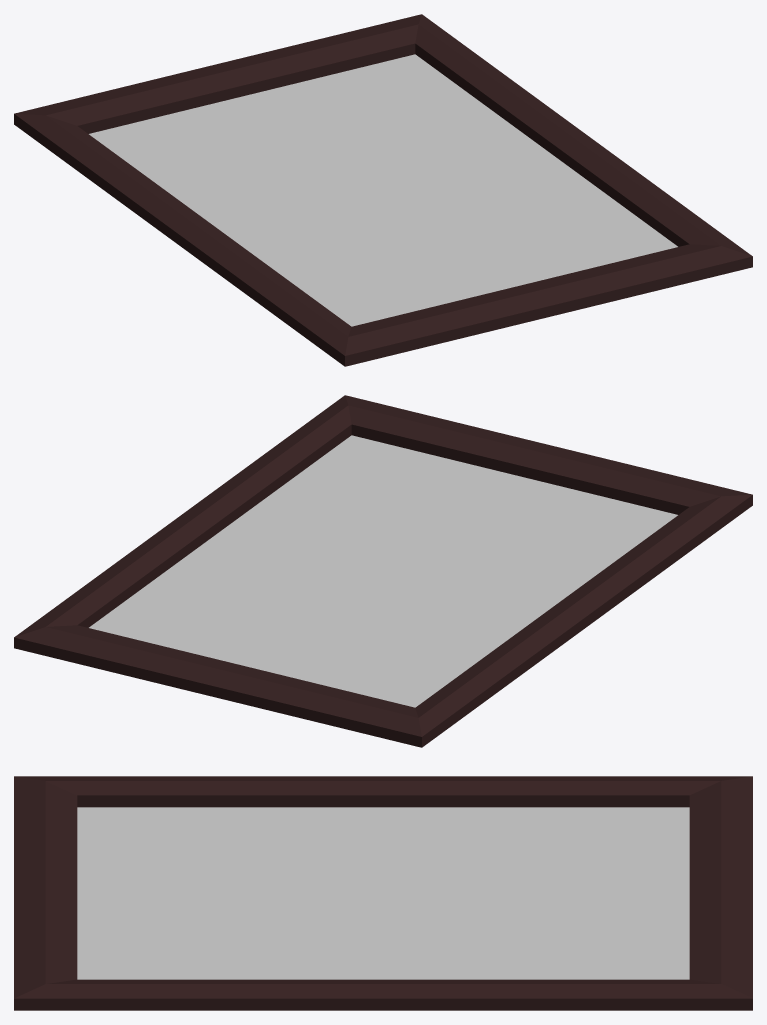
File: SM_Marco.fbx
3 views of the same model, one above another, from view 1: azimuth 30°, elevation 25°; view 2: azimuth 150°, elevation 25°; view 3: azimuth 270°, elevation 25° (orthographic). The views are drawn at different scales.
Visible parts, largest first — view 1: Plane.001, Plane; view 2: Plane.001, Plane; view 3: Plane.001, Plane.
Boxes of the visible parts, <box> form: Plane.001: <box>89,54,677,326</box>; Plane: <box>14,14,752,366</box>; Plane.001: <box>89,435,677,707</box>; Plane: <box>14,395,752,747</box>; Plane.001: <box>77,807,689,979</box>; Plane: <box>14,776,752,1010</box>.
Bounding box in the file's own units: 37.61 × 1.34 × 52.87.
